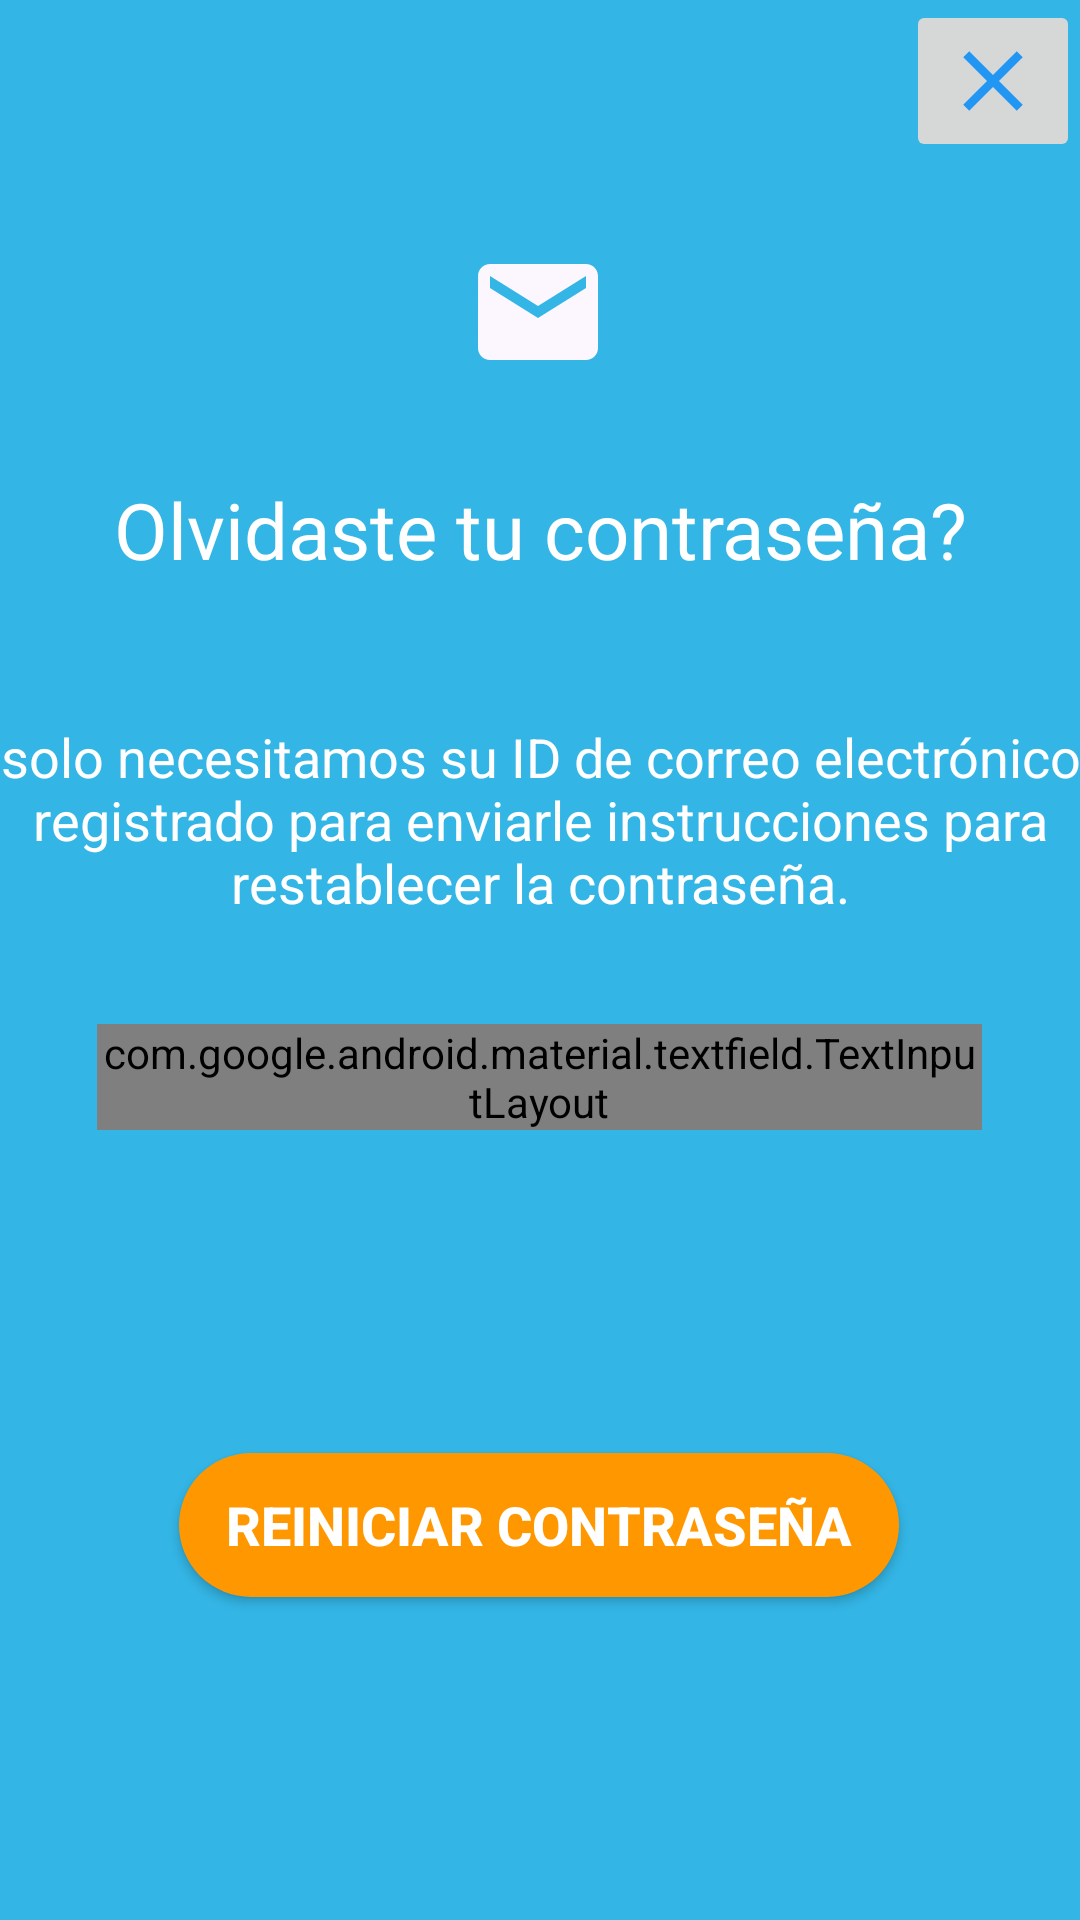

Named icons in this screenshot (1080px x 1920px) and their bounding boxes, [x1,y1,x2,y2]:
close: [918,18,1068,144]
email: [478,264,598,360]
